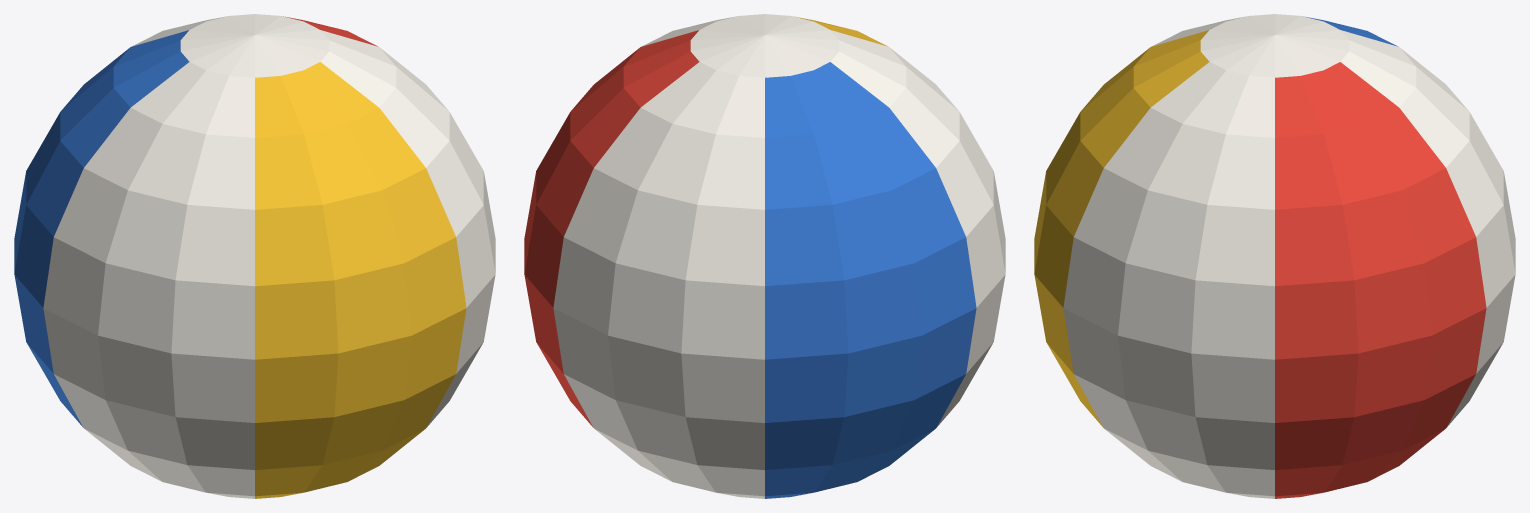
Rendered from beach-ball.glb.
3 renders of one model, left to right at view 1: azimuth 30°, elevation 25°; view 2: azimuth 150°, elevation 25°; view 3: azimuth 270°, elevation 25°, orthographic.
Visible parts, largest first — view 1: beach-ball; view 2: beach-ball; view 3: beach-ball.
Part boxes in pixels (x1,y1,x2,y2): beach-ball: (14, 14, 495, 498); beach-ball: (524, 14, 1005, 498); beach-ball: (1034, 14, 1515, 498).
Size of the model in its own units: 2.3 by 2.3 by 2.27.
